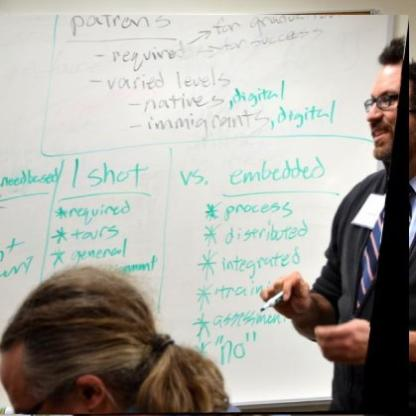Handwritten text: (140, 100, 343, 142), (173, 155, 328, 187), (137, 87, 277, 110), (62, 12, 176, 39), (96, 69, 239, 89), (221, 244, 305, 278), (110, 40, 197, 71), (214, 12, 347, 32), (78, 157, 154, 189), (226, 220, 316, 243), (209, 305, 292, 328), (223, 198, 300, 219), (63, 200, 134, 222), (0, 166, 58, 191), (209, 278, 277, 299), (67, 244, 131, 263), (217, 338, 248, 365), (72, 225, 126, 239)
Lecturer: (283, 32, 412, 411)
Whiteboard: (3, 7, 412, 411)
